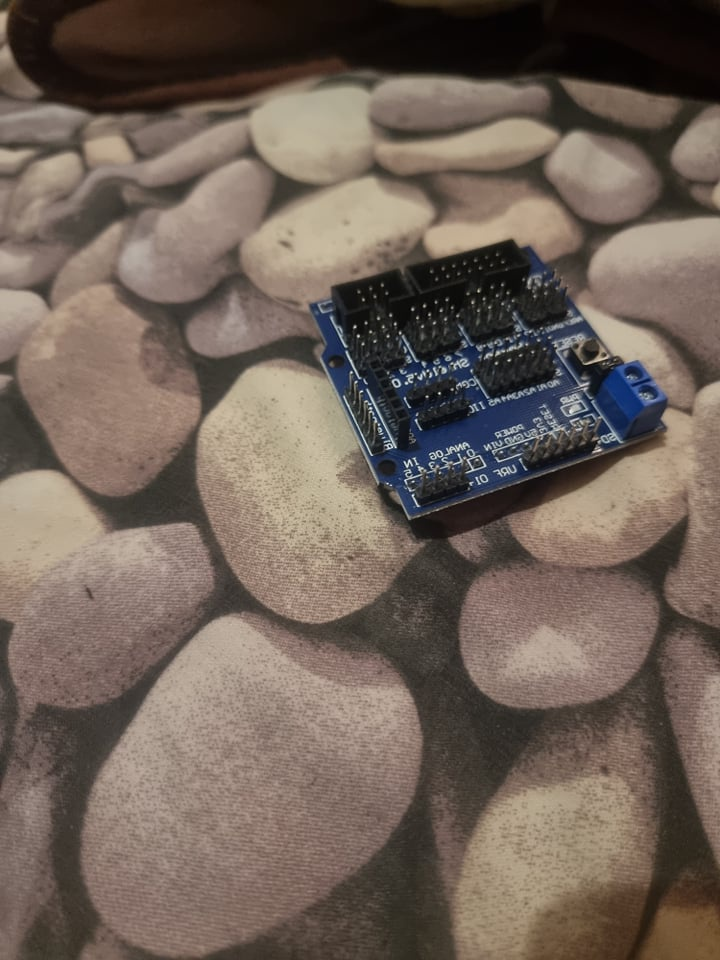5V EXPANSION: (306, 238, 670, 522)
